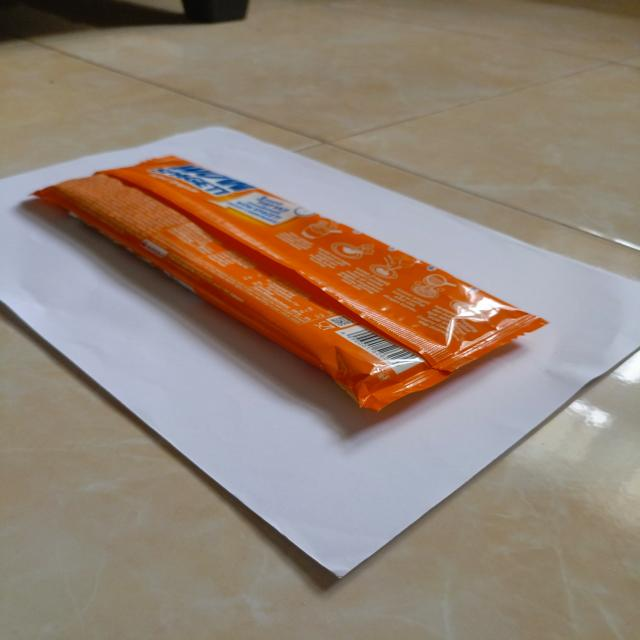indomie-tori-miso: (29, 152, 554, 412)
